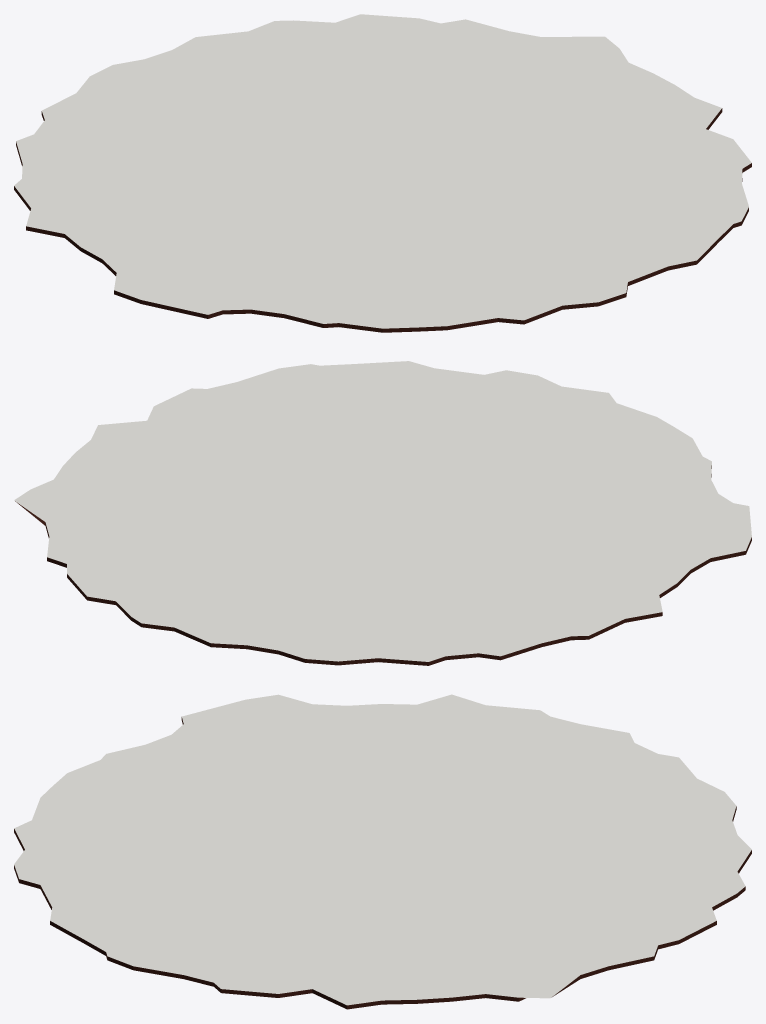
Rendered from yunshikeng.fbx.
3 renders of one model, top to bottom at view 1: azimuth 30°, elevation 25°; view 2: azimuth 150°, elevation 25°; view 3: azimuth 270°, elevation 25°, orthographic. The views are drawn at different scales.
Parts seen in each view (by area): view 1: yunshikeng; view 2: yunshikeng; view 3: yunshikeng.
Part boxes in pixels (x1,y1,x2,y2): yunshikeng: [14, 14, 751, 332]; yunshikeng: [14, 361, 751, 665]; yunshikeng: [14, 694, 751, 1009].
Bounding box in the file's own units: 649 × 3.94 × 651.
